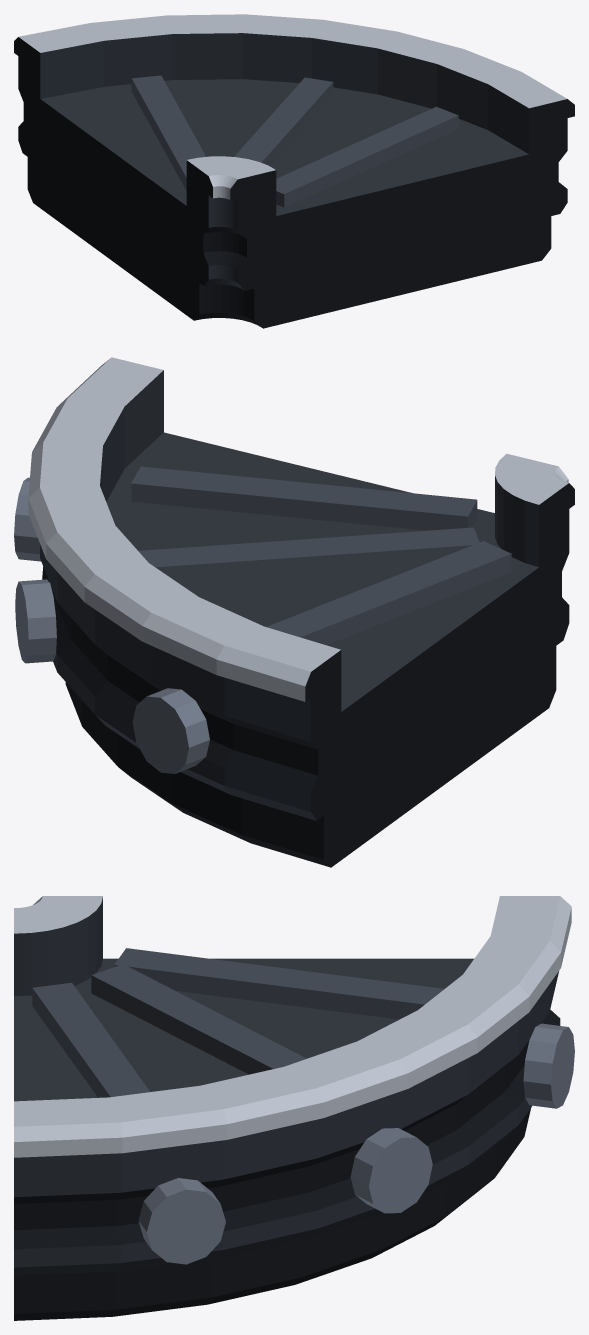
Rendered from belt-curve.glb.
The picture shows the model from 3 angles, top to bottom: view 1: azimuth 30°, elevation 25°; view 2: azimuth 150°, elevation 25°; view 3: azimuth 270°, elevation 25°; orthographic projection. The views are drawn at different scales.
Visible parts, largest first — view 1: belt-curve; view 2: belt-curve; view 3: belt-curve.
Boxes of the visible parts, left/top/right/bottom form: belt-curve: left=14, top=14, right=574, bottom=328; belt-curve: left=14, top=357, right=574, bottom=867; belt-curve: left=14, top=896, right=574, bottom=1320.
Bounding box in the file's own units: 0.9756 × 0.405 × 0.9756.
